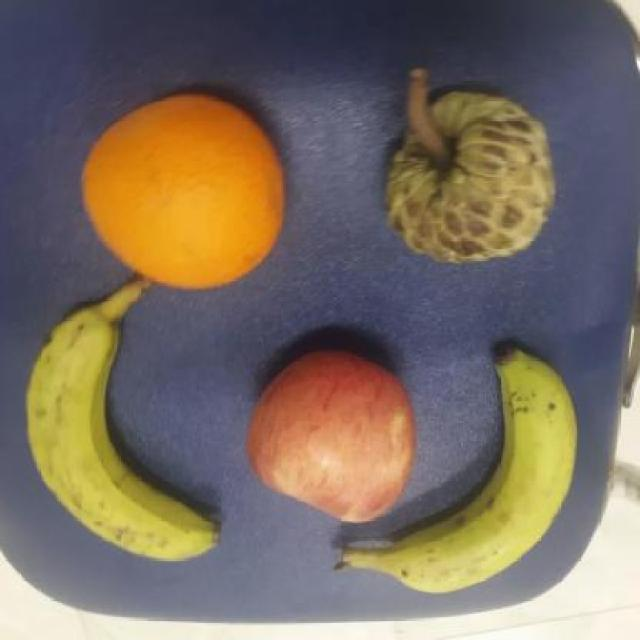apple: (240, 346, 423, 525)
banana: (22, 273, 225, 564), (393, 345, 582, 609)
oren: (76, 80, 290, 300)
sugar apple: (381, 78, 550, 269)
